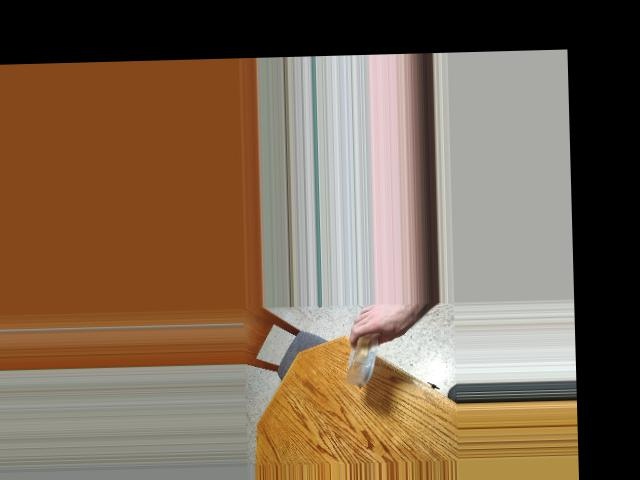cheese: (344, 333, 389, 381)
